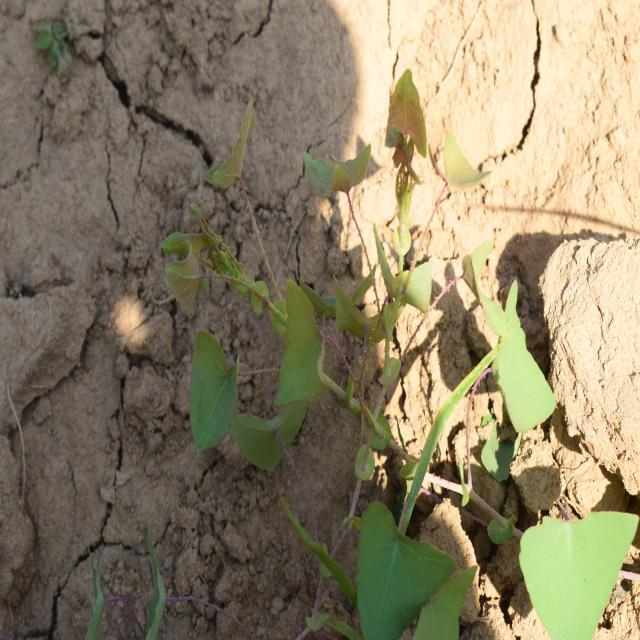Asiatic_Smartweed: (157, 93, 324, 451), (330, 70, 495, 332), (336, 487, 478, 640)
